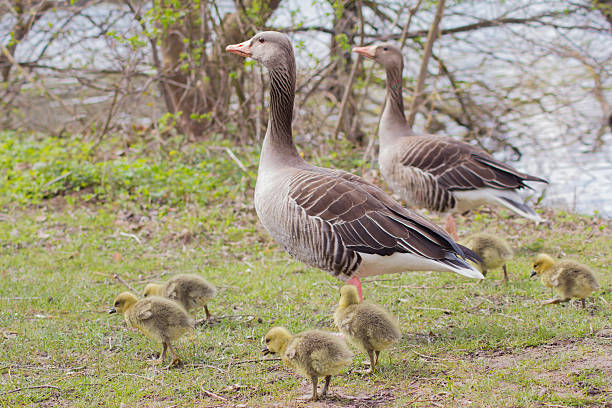goose: (222, 28, 491, 315), (349, 38, 553, 239)
